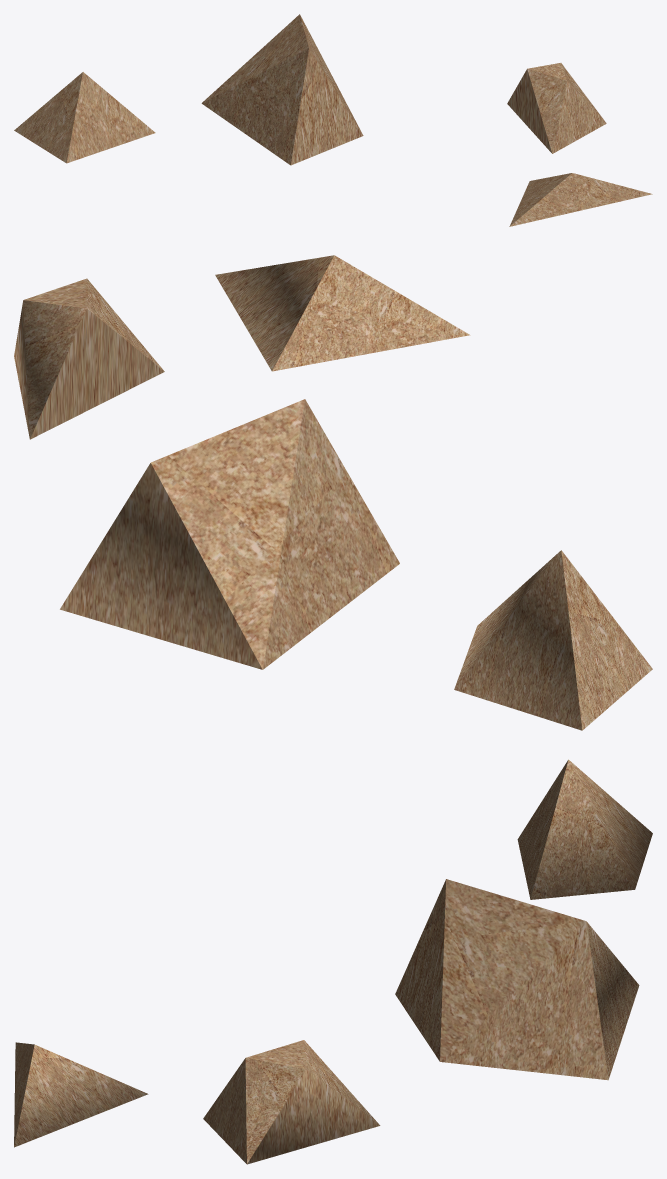
Rendered from rock_pebbleclump_l3.fbx.
The picture shows the model from 3 angles, top to bottom: view 1: azimuth 30°, elevation 25°; view 2: azimuth 150°, elevation 25°; view 3: azimuth 270°, elevation 25°; orthographic projection. The views are drawn at different scales.
Visible parts, largest first — view 1: mesh_node; view 2: mesh_node; view 3: mesh_node.
Boxes of the visible parts, bbox=[...] form: mesh_node: bbox=[14, 14, 652, 226]; mesh_node: bbox=[14, 255, 652, 730]; mesh_node: bbox=[14, 759, 652, 1164].
Size of the model in its own units: 0.8198 by 0.1701 by 0.6777.
